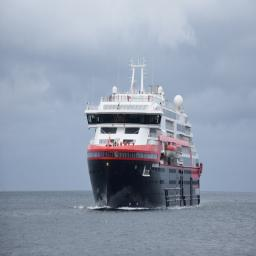cruises: (83, 56, 204, 221)
